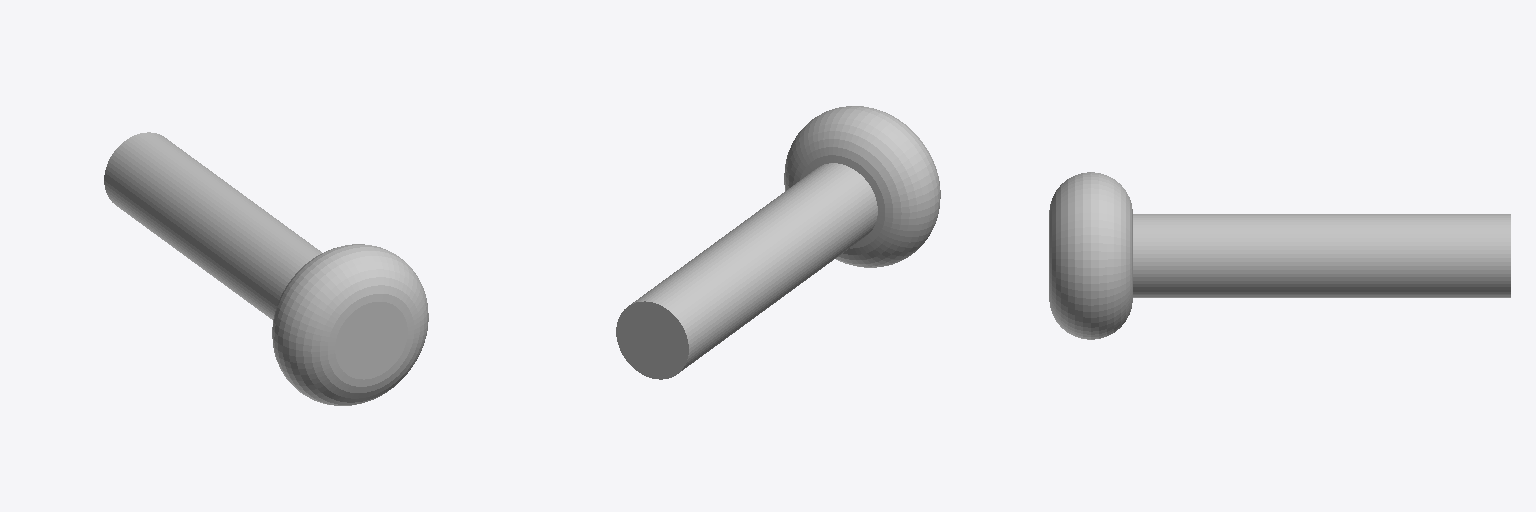
The model's file is plunger.obj.
3 renders of one model, left to right at view 1: azimuth 30°, elevation 25°; view 2: azimuth 150°, elevation 25°; view 3: azimuth 270°, elevation 25°, orthographic.
Visible parts, largest first — view 1: Plunger.004_Cylinder.026; view 2: Plunger.004_Cylinder.026; view 3: Plunger.004_Cylinder.026.
Part boxes in pixels (left/top/right/bottom): Plunger.004_Cylinder.026: left=104, top=132, right=428, bottom=405; Plunger.004_Cylinder.026: left=616, top=106, right=940, bottom=379; Plunger.004_Cylinder.026: left=1049, top=172, right=1510, bottom=339.
Bounding box in the file's own units: 1 × 1 × 2.75.